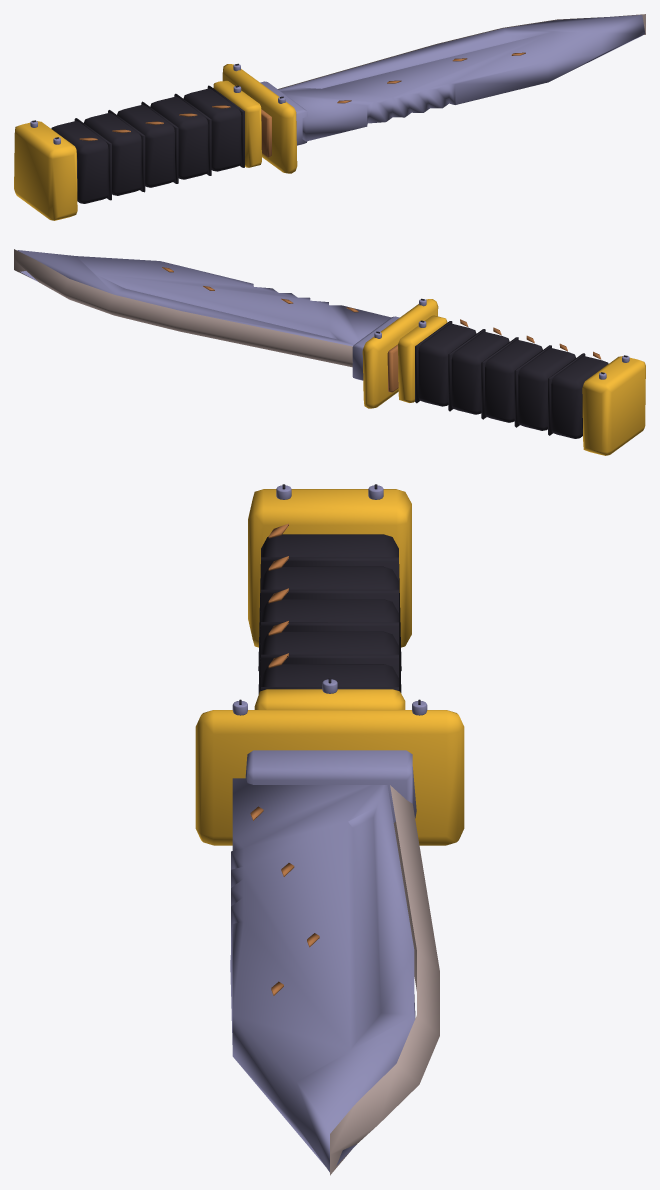
3 renders of one model, top to bottom at view 1: azimuth 30°, elevation 25°; view 2: azimuth 150°, elevation 25°; view 3: azimuth 270°, elevation 25°, orthographic. The views are drawn at different scales.
Size of the model in its own units: 0.555 by 0.067 by 0.105.
